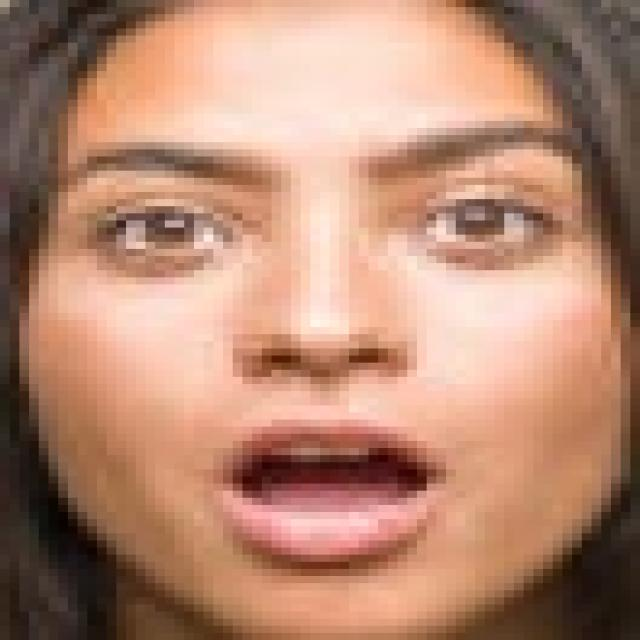Anxiety: (16, 0, 630, 633)
